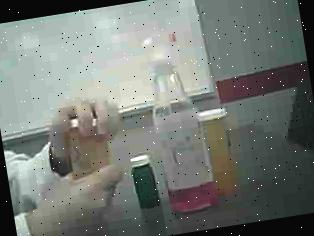Bottle A: (200, 98, 246, 200)
Bottle B: (56, 95, 125, 194)
Bottle C: (125, 152, 168, 217)
hazard: (137, 25, 223, 218)
